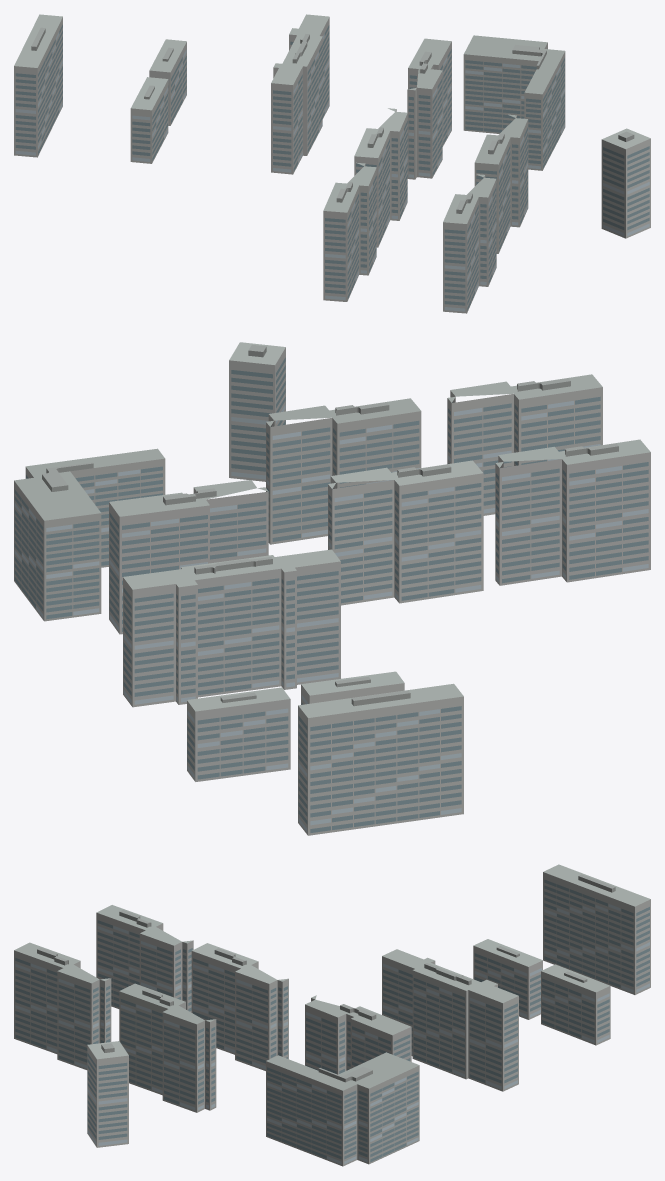
The model's file is apt-a14276311.glb.
3 views of the same model, one above another, from view 1: azimuth 30°, elevation 25°; view 2: azimuth 150°, elevation 25°; view 3: azimuth 270°, elevation 25° (orthographic). The views are drawn at different scales.
Parts seen in each view (by area): view 1: apt-a14276311; view 2: apt-a14276311; view 3: apt-a14276311.
Part boxes in pixels (box(x1,y1,x2,y2)): apt-a14276311: box(14, 14, 650, 313); apt-a14276311: box(14, 342, 650, 835); apt-a14276311: box(14, 864, 650, 1166).
Size of the model in its own units: 237 by 47.81 by 298.
